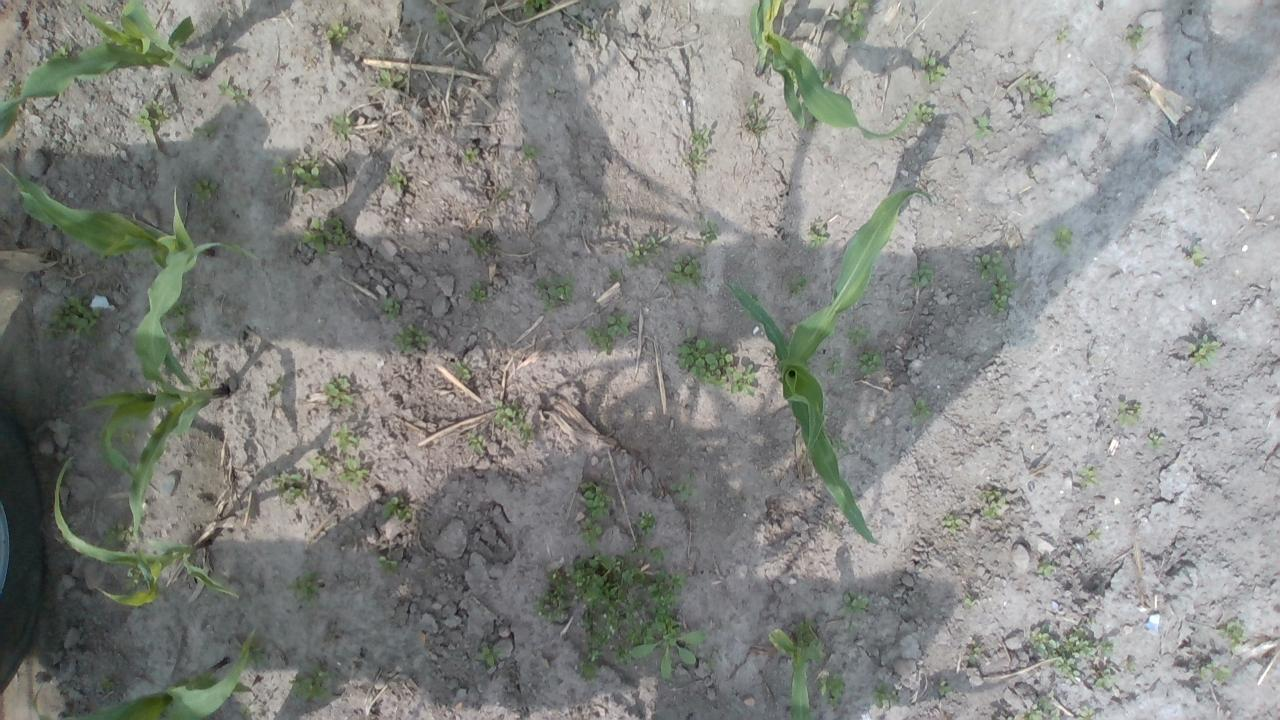Maize: (726, 182, 934, 545), (78, 240, 260, 584), (0, 160, 199, 388), (0, 0, 217, 143), (52, 456, 240, 608), (746, 0, 920, 142), (31, 626, 258, 720), (767, 624, 827, 720)
Weeds: (534, 542, 708, 680), (674, 328, 758, 398), (36, 292, 110, 358), (1029, 622, 1097, 686), (160, 271, 202, 351), (973, 252, 1019, 318), (576, 476, 613, 550), (270, 154, 330, 193), (298, 215, 356, 254), (584, 311, 630, 354), (288, 664, 336, 702), (492, 401, 536, 441), (533, 272, 575, 312), (282, 568, 323, 606), (390, 323, 436, 355), (836, 590, 870, 633), (626, 233, 670, 266), (1019, 77, 1056, 116), (132, 98, 170, 135), (664, 253, 704, 288), (681, 128, 711, 174), (1187, 332, 1222, 371), (834, 10, 869, 46), (98, 520, 136, 552), (272, 465, 304, 502), (336, 458, 371, 490), (1024, 691, 1062, 720), (818, 672, 848, 708), (1216, 618, 1247, 652), (976, 487, 1006, 519), (324, 376, 353, 409), (668, 472, 698, 503), (329, 422, 358, 453), (191, 350, 214, 388), (853, 348, 884, 376), (380, 496, 413, 522), (1198, 662, 1234, 685), (217, 78, 250, 103), (919, 55, 947, 84), (795, 618, 822, 648), (906, 262, 934, 290), (120, 564, 148, 592), (804, 220, 830, 250), (1115, 399, 1141, 428), (1049, 224, 1074, 254), (634, 510, 659, 540), (472, 644, 504, 666), (465, 233, 496, 255), (872, 682, 898, 708), (908, 396, 932, 424), (330, 114, 354, 142), (192, 178, 218, 203), (697, 219, 719, 248), (375, 68, 404, 89), (844, 324, 869, 348), (386, 164, 408, 191), (432, 4, 453, 32), (1094, 666, 1118, 690), (96, 676, 128, 694), (324, 20, 350, 42), (786, 272, 809, 296), (306, 454, 330, 477), (972, 114, 993, 140), (381, 296, 402, 322), (939, 512, 962, 535), (246, 644, 269, 666), (822, 355, 846, 376), (912, 104, 934, 126), (266, 376, 288, 398), (467, 280, 488, 303), (521, 0, 549, 17), (829, 434, 852, 454), (745, 114, 769, 133), (452, 358, 473, 379), (1078, 466, 1100, 486), (1034, 557, 1056, 577), (466, 432, 486, 454), (706, 648, 725, 671), (1126, 25, 1144, 49), (377, 555, 398, 575), (193, 122, 218, 138), (521, 143, 540, 162), (1190, 244, 1206, 266), (127, 258, 151, 272), (816, 66, 834, 84), (51, 42, 70, 59), (460, 147, 480, 163), (1074, 706, 1096, 720), (1148, 432, 1165, 450), (937, 676, 953, 695), (583, 24, 598, 44), (1086, 526, 1104, 542), (1100, 639, 1116, 657), (967, 644, 981, 664), (64, 518, 80, 533), (1054, 30, 1071, 44), (607, 268, 624, 282), (854, 0, 878, 9), (746, 96, 760, 111), (236, 704, 252, 717), (800, 101, 813, 117), (802, 118, 819, 130), (498, 185, 510, 200), (962, 596, 975, 608), (232, 640, 243, 652), (1126, 660, 1136, 672), (1142, 90, 1150, 100), (547, 86, 556, 94), (1007, 716, 1015, 720)
